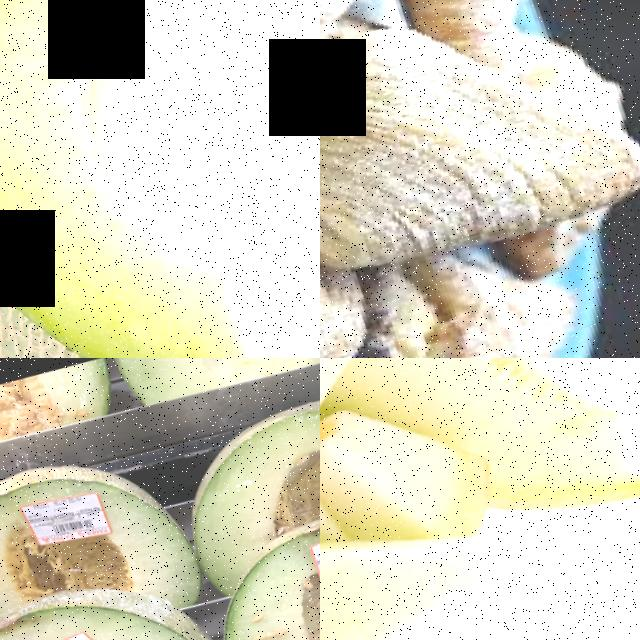melon: (0, 0, 320, 358), (0, 358, 235, 631), (396, 358, 640, 541), (169, 358, 320, 574), (37, 561, 304, 640), (0, 392, 30, 640)
